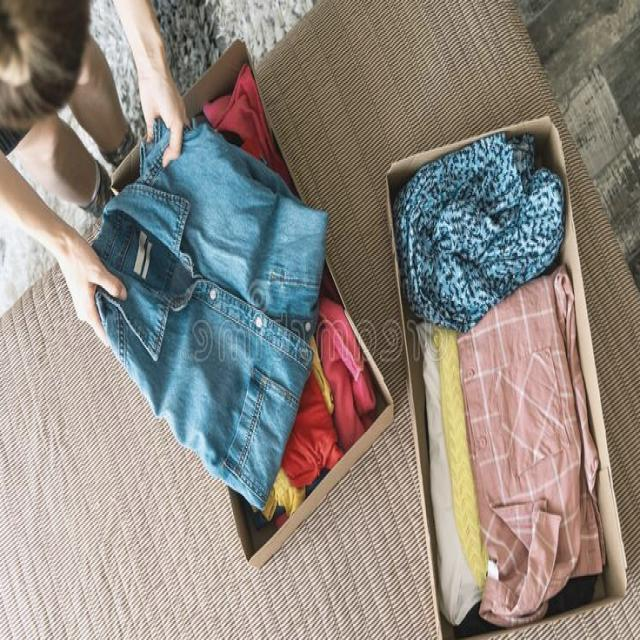clothes: (428, 128, 560, 623)
